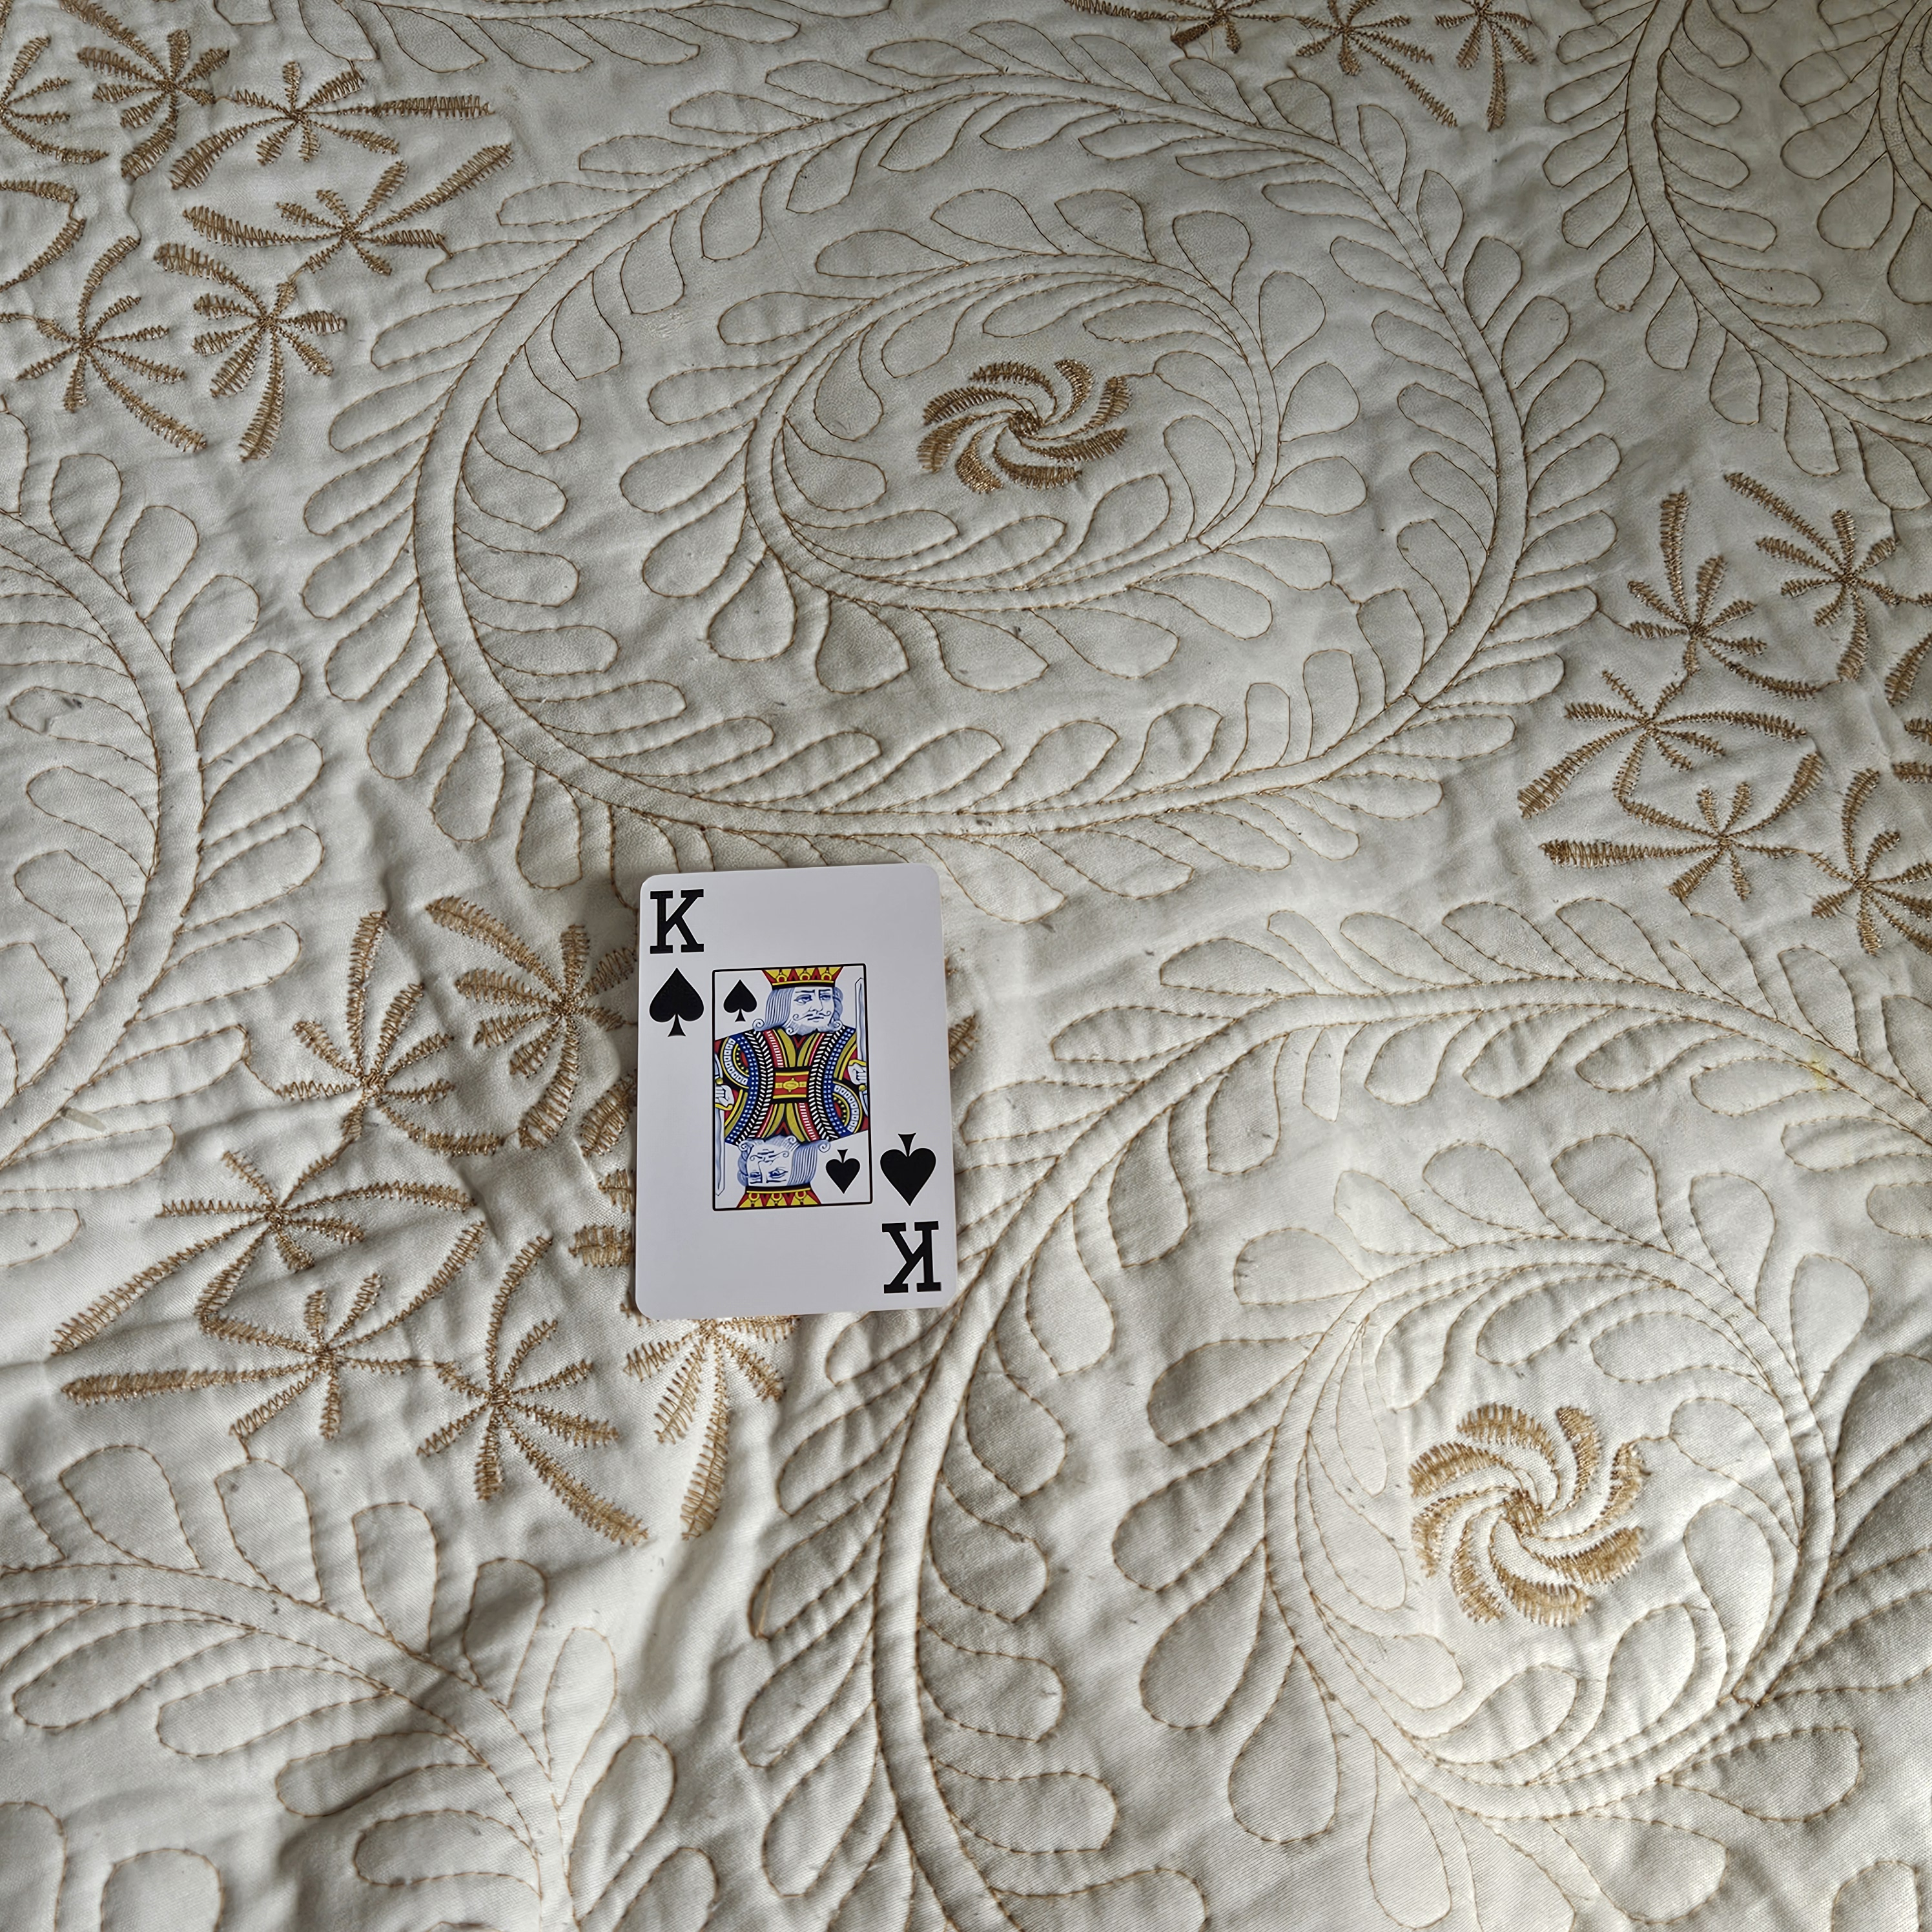KE: (869, 1120, 957, 1311), (639, 878, 713, 1047)
